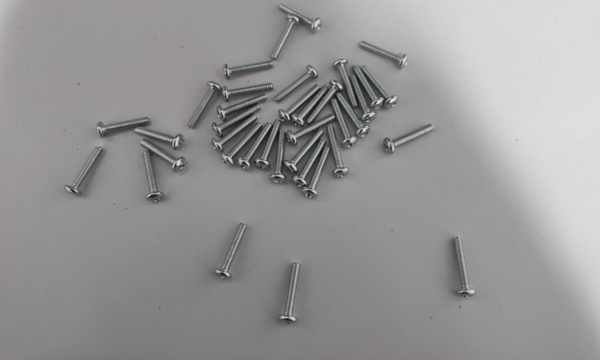longscrew: (63, 148, 103, 195), (131, 151, 164, 207), (276, 261, 305, 323), (217, 221, 245, 283), (186, 82, 222, 130), (237, 121, 270, 172), (282, 130, 322, 172), (291, 139, 325, 188), (301, 146, 330, 202), (212, 116, 259, 150), (138, 142, 187, 174), (279, 62, 319, 101), (382, 125, 437, 153), (361, 68, 399, 108), (287, 114, 335, 145), (338, 91, 368, 139), (359, 37, 408, 66), (453, 235, 474, 302), (224, 123, 261, 161), (280, 82, 317, 120), (216, 92, 266, 119), (92, 114, 149, 137), (255, 122, 280, 174), (310, 80, 340, 122), (296, 85, 326, 127), (213, 107, 261, 133), (332, 99, 356, 150), (355, 65, 382, 109), (281, 3, 322, 29), (221, 57, 274, 77), (221, 79, 274, 99), (337, 59, 359, 107), (272, 18, 298, 58), (268, 130, 285, 190), (330, 124, 347, 180), (352, 77, 373, 121), (135, 130, 187, 147)
